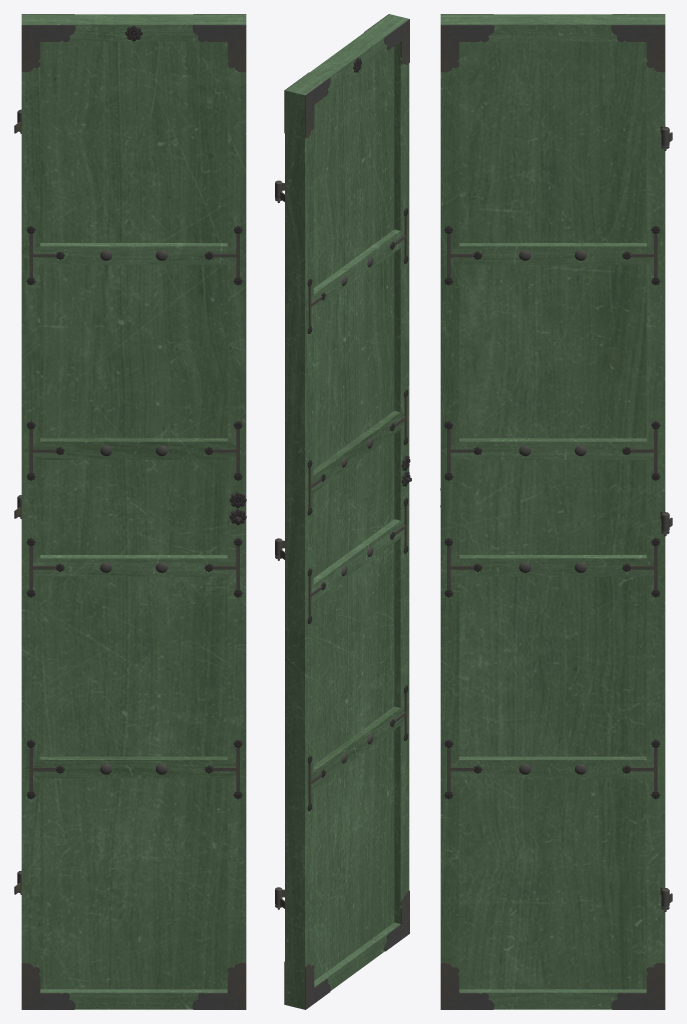
Rendered from SM_Door06B.fbx.
The picture shows the model from 3 angles, left to right: view 1: azimuth 90°, elevation 25°; view 2: azimuth 150°, elevation 25°; view 3: azimuth 270°, elevation 25°; orthographic projection. The views are drawn at different scales.
Parts seen in each view (by area): view 1: SM_Door06B; view 2: SM_Door06B; view 3: SM_Door06B.
Part boxes in pixels (x1,y1,x2,y2): SM_Door06B: (14, 14, 246, 1009); SM_Door06B: (275, 14, 411, 1009); SM_Door06B: (440, 14, 672, 1009).
Bounding box in the file's own units: 9.51 × 50.02 × 234.
1 material, 1 textured.
